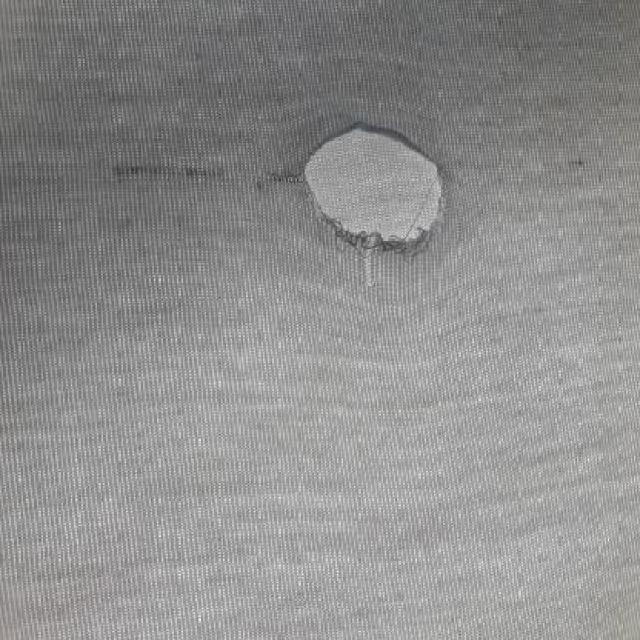other: (287, 118, 455, 258)
